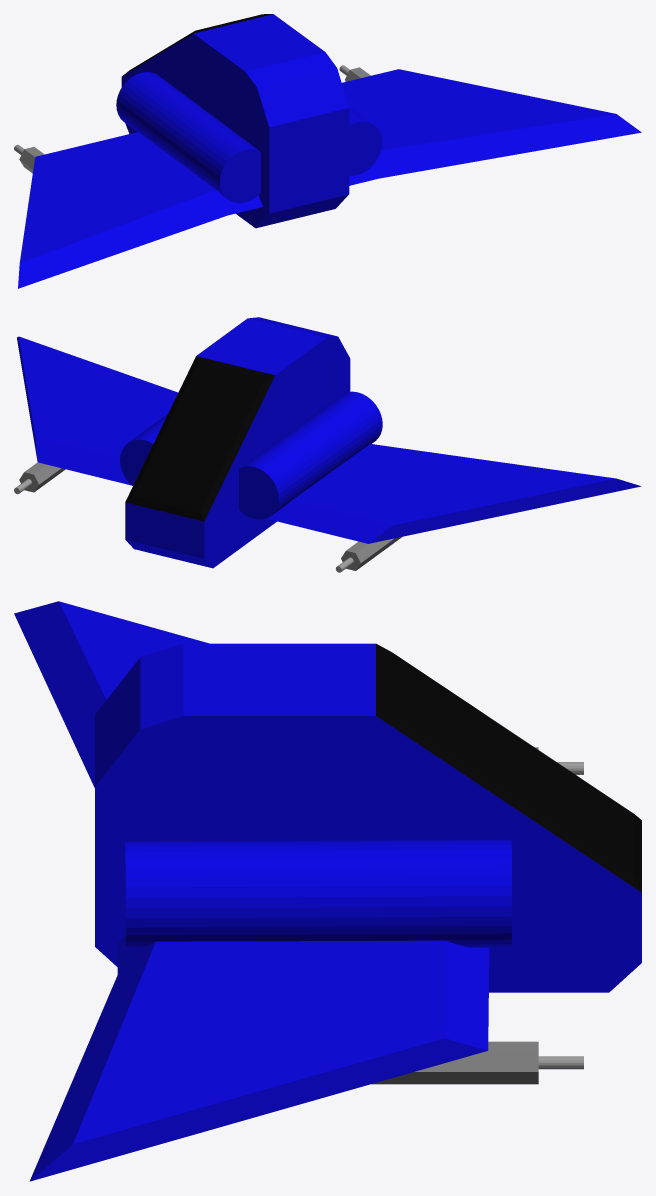
Rendered from spacecraft.glb.
The picture shows the model from 3 angles, top to bottom: view 1: azimuth 30°, elevation 25°; view 2: azimuth 150°, elevation 25°; view 3: azimuth 270°, elevation 25°; orthographic projection. The views are drawn at different scales.
Visible parts, largest first — view 1: wings, spacecraft, jet, fire, mirror; view 2: wings, spacecraft, mirror, jet, fire; view 3: spacecraft, wings, jet, mirror, fire, fire.001.
Boxes of the visible parts, box(x1,y1,x2,y2) form: wings: box(18, 69, 641, 288); spacecraft: box(121, 14, 349, 228); jet: box(116, 72, 382, 203); fire: box(19, 67, 370, 173); mirror: box(123, 14, 272, 75); wings: box(17, 336, 641, 543); spacecraft: box(125, 317, 350, 568); mirror: box(125, 356, 274, 521); jet: box(120, 391, 382, 519); fire: box(19, 462, 401, 570); spacecraft: box(95, 643, 641, 992); wings: box(14, 601, 489, 1181); jet: box(125, 840, 511, 949); mirror: box(376, 643, 641, 892); fire: box(371, 747, 538, 1084); fire.001: box(538, 762, 583, 1069).
Size of the model in its own units: 4.13 by 0.9368 by 1.93.
